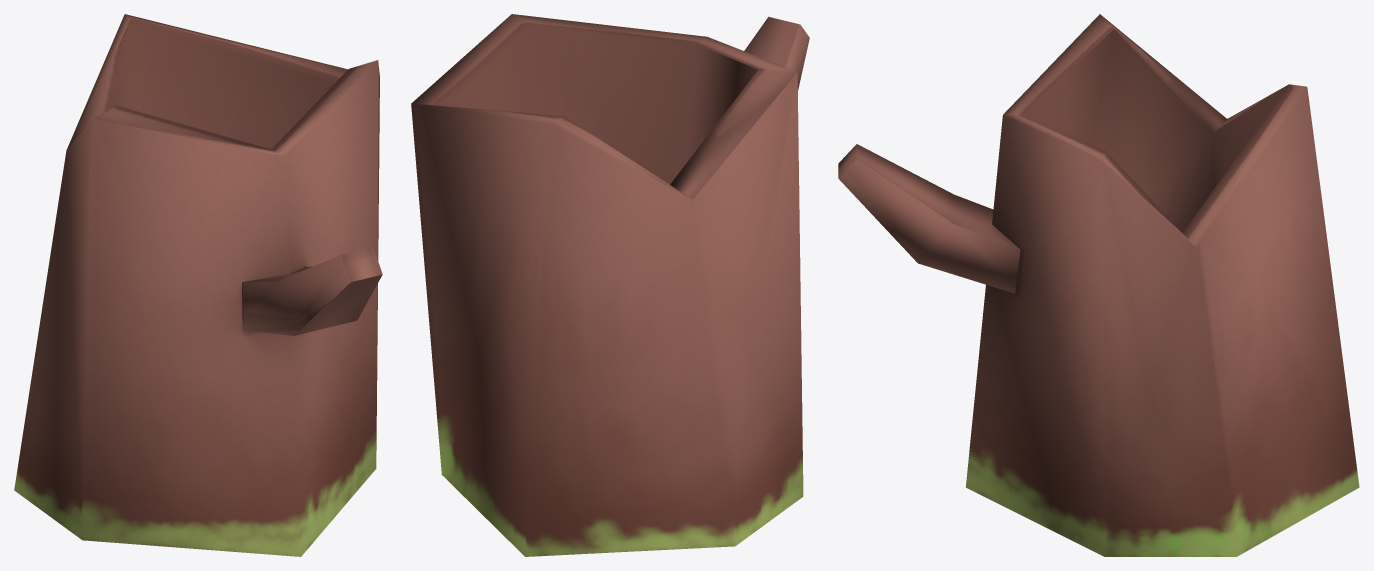
File: tree_stump.fbx
3 views of the same model, side by side, from view 1: azimuth 30°, elevation 25°; view 2: azimuth 150°, elevation 25°; view 3: azimuth 270°, elevation 25° (orthographic). The views are drawn at different scales.
Parts seen in each view (by area): view 1: tree_stump; view 2: tree_stump; view 3: tree_stump.
Part boxes in pixels (box(x1,y1,x2,y2)): tree_stump: box(14, 14, 382, 556); tree_stump: box(411, 14, 809, 556); tree_stump: box(838, 14, 1359, 556).
Size of the model in its own units: 208 by 180 by 154.
Materials: 1 (1 with a texture image).
